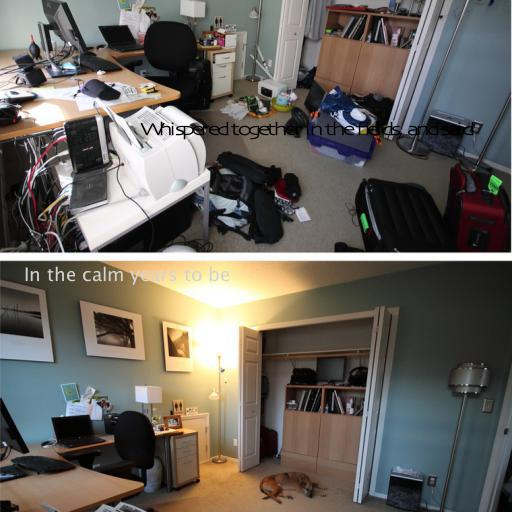Lucida Grande: (24, 266, 230, 285)
Skia: (140, 121, 472, 140)
